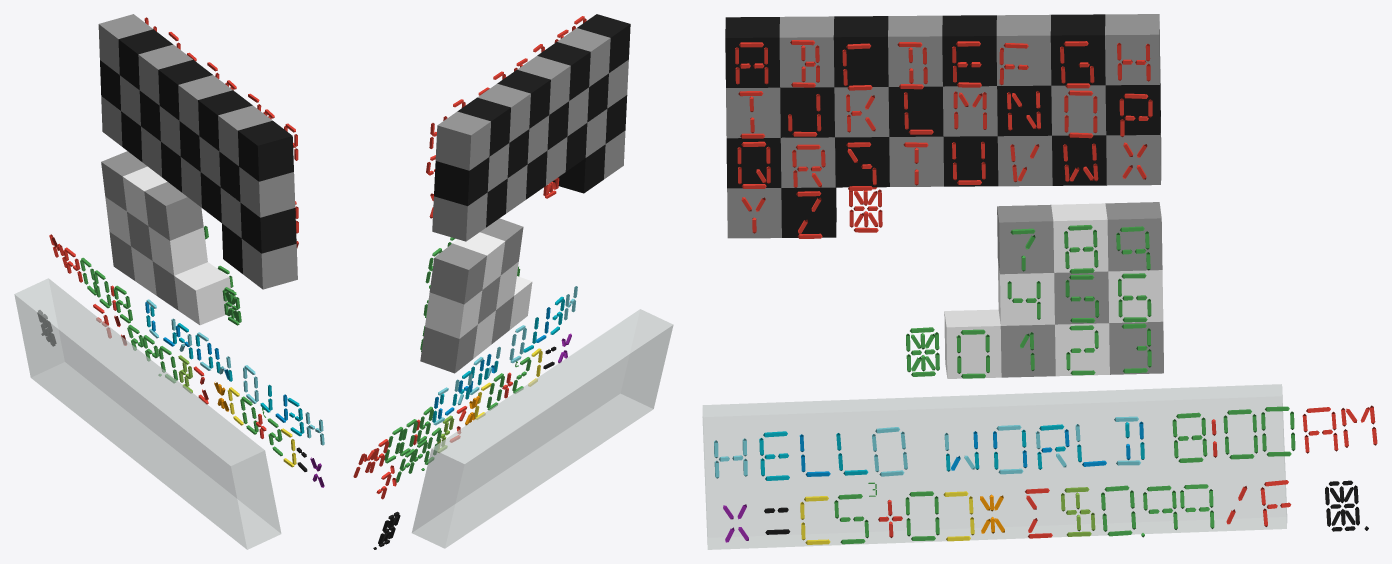
Rendered from 14-seg-crystal-alphabet.glb.
3 renders of one model, left to right at view 1: azimuth 30°, elevation 25°; view 2: azimuth 150°, elevation 25°; view 3: azimuth 270°, elevation 25°, orthographic. The views are drawn at different scales.
Parts seen in each view (by area): view 1: Node; view 2: Node; view 3: Node.
Boxes of the visible parts, box(x1,y1,x2,y2) form: Node: box(14, 14, 324, 549); Node: box(353, 14, 673, 549); Node: box(702, 14, 1377, 549).
Bounding box in the file's own units: 1.39 × 5.04 × 5.72.
